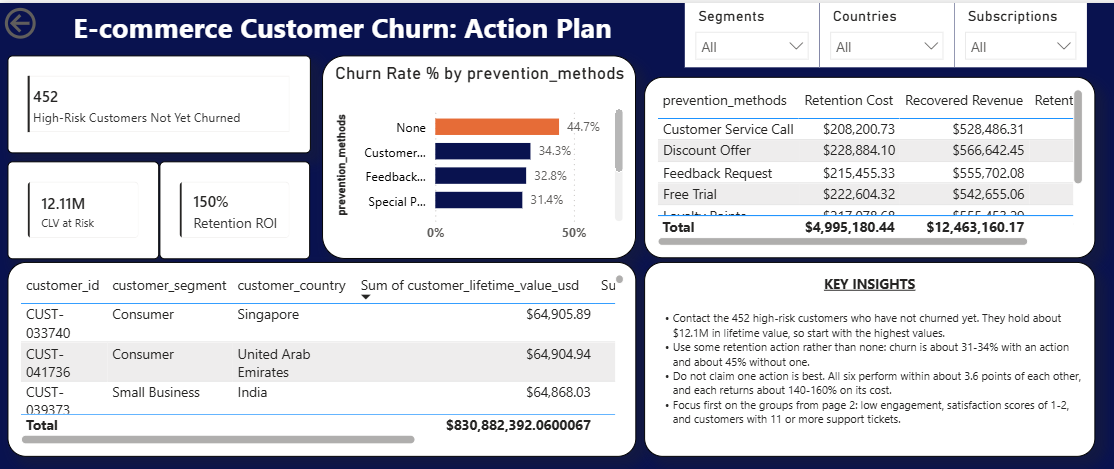

Layout of this report page (visuals, bound fields, positions):
{"tool":"powerbi","page":{"name":"Action Plan","canvas":[1550,717],"ordinal":3},"visuals":[{"type":"textbox","box":[0,0,667,51],"z":0},{"type":"slicer","fields":{"Values":["Customers.customer_segment"]},"box":[710.4,0,262.5,62.5],"z":1000},{"type":"slicer","fields":{"Values":["Customers.customer_country"]},"box":[972.9,0,281.2,62.5],"z":2000},{"type":"slicer","fields":{"Values":["Customers.subscription_type"]},"box":[1254.2,0,252.1,62.5],"z":3000},{"type":"actionButton","box":[0,0,100,40],"z":8000},{"type":"cardVisual","fields":{"Data":["_Measures.High-Risk Active Customers"]},"box":[10.4,70.8,294.8,87.5],"z":8001},{"type":"cardVisual","fields":{"Data":["_Measures.CLV at Risk"]},"box":[9.4,165.6,294.8,84.4],"z":8002},{"type":"cardVisual","fields":{"Data":["_Measures.Retention ROI"]},"box":[9.4,259.4,294.8,88.5],"z":8003},{"type":"clusteredBarChart","fields":{"Category":["Events.prevention_methods"],"Y":["_Measures.Churn Rate %"]},"box":[319.8,88.5,691.7,251],"z":8004},{"type":"tableEx","fields":{"Values":["Events.prevention_methods","_Measures.Retention Cost","_Measures.Recovered Revenue","_Measures.Retention ROI"]},"box":[1028.1,88.5,496.9,251],"z":8005},{"type":"tableEx","fields":{"Values":["Customers.customer_id","Customers.customer_segment","Customers.customer_country","Sum(Metrics.customer_lifetime_value_usd)","Sum(Metrics.churn_risk_score)","Sum(Events.days_since_churn)"]},"box":[14.6,358.3,906.2,342.7],"z":8007},{"type":"textbox","box":[936.5,347.9,588.5,353.1],"z":8008}]}

Visuals, with their boxes on the page's 1550x717 design canvas (x1, y1, x2, y2). These are canvas units, not pixel positions in the 1114x469 screenshot, which may show the page scaled, cropped or inside an application window:
textbox: 0, 0, 667, 51
slicer - Customers.customer_segment: 710, 0, 973, 62
slicer - Customers.customer_country: 973, 0, 1254, 62
slicer - Customers.subscription_type: 1254, 0, 1506, 62
actionButton: 0, 0, 100, 40
cardVisual - _Measures.High-Risk Active Customers: 10, 71, 305, 158
cardVisual - _Measures.CLV at Risk: 9, 166, 304, 250
cardVisual - _Measures.Retention ROI: 9, 259, 304, 348
clusteredBarChart - Events.prevention_methods x _Measures.Churn Rate %: 320, 88, 1012, 340
tableEx - Events.prevention_methods x _Measures.Retention Cost: 1028, 88, 1525, 340
tableEx - Customers.customer_id x Customers.customer_segment: 15, 358, 921, 701
textbox: 936, 348, 1525, 701
